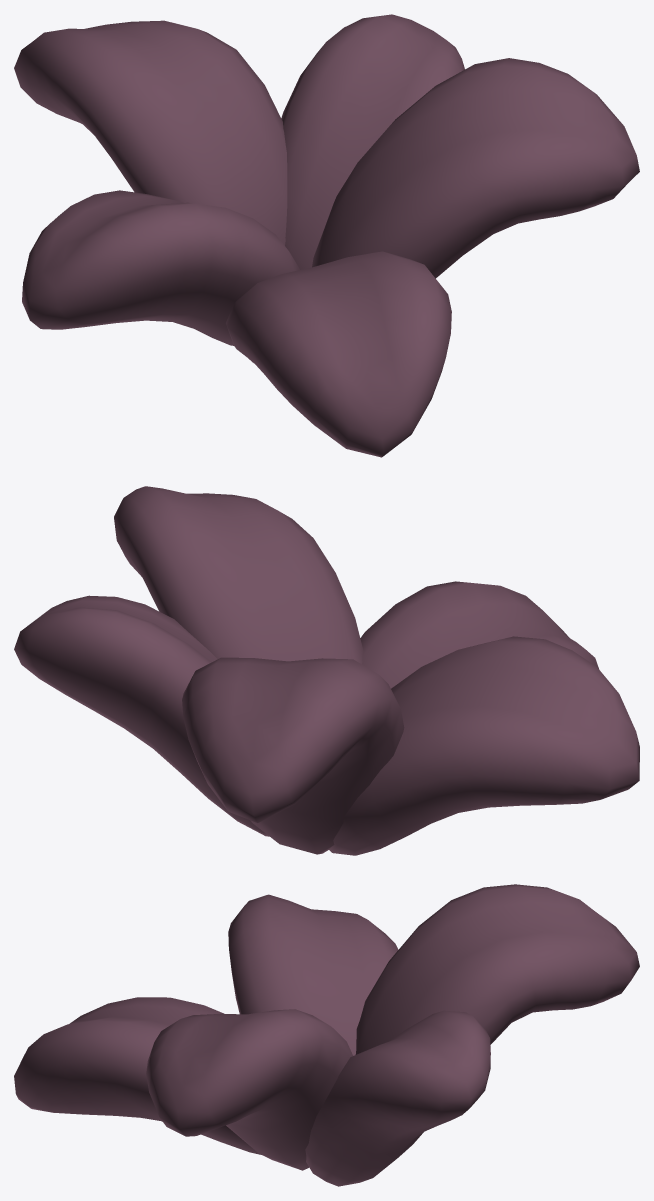
Rendered from Plant_B_03.fbx.
3 renders of one model, top to bottom at view 1: azimuth 30°, elevation 25°; view 2: azimuth 150°, elevation 25°; view 3: azimuth 270°, elevation 25°, orthographic. The views are drawn at different scales.
Parts seen in each view (by area): view 1: Plant_B_03_LOD0; view 2: Plant_B_03_LOD0; view 3: Plant_B_03_LOD0.
Boxes of the visible parts, x1,y1,x2,y2 form: Plant_B_03_LOD0: (14, 14, 639, 457); Plant_B_03_LOD0: (14, 486, 639, 855); Plant_B_03_LOD0: (14, 884, 639, 1186).
Size of what is drawn, in the model's own units: 584 by 261 by 632.
